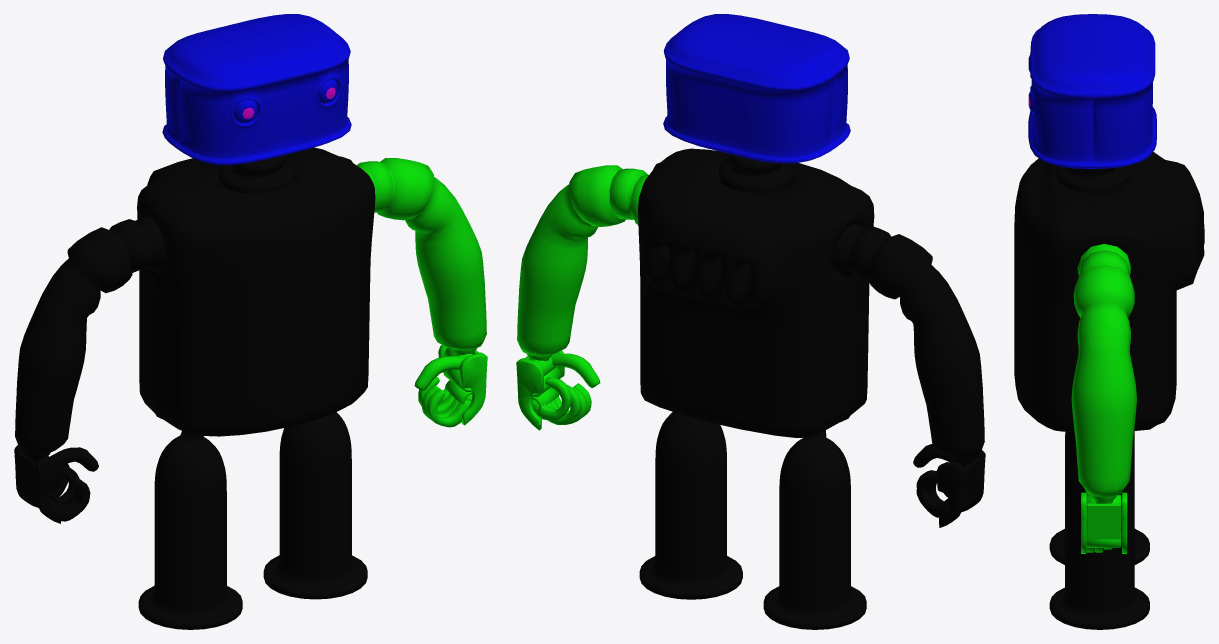
The model's file is SM_Robot.FBX.
The picture shows the model from 3 angles, left to right: view 1: azimuth 30°, elevation 25°; view 2: azimuth 150°, elevation 25°; view 3: azimuth 270°, elevation 25°; orthographic projection. The views are drawn at different scales.
Parts seen in each view (by area): view 1: SM_Robot; view 2: SM_Robot; view 3: SM_Robot.
Boxes of the visible parts, x1,y1,x2,y2 form: SM_Robot: (14,14,487,629); SM_Robot: (516,14,985,629); SM_Robot: (1014,14,1204,629).
Size of the model in its own units: 388 by 444 by 143.
